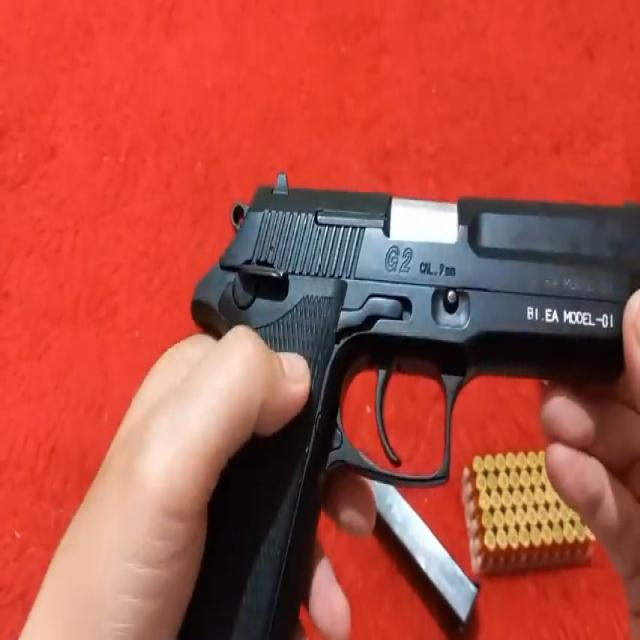handgun: (157, 179, 640, 636)
